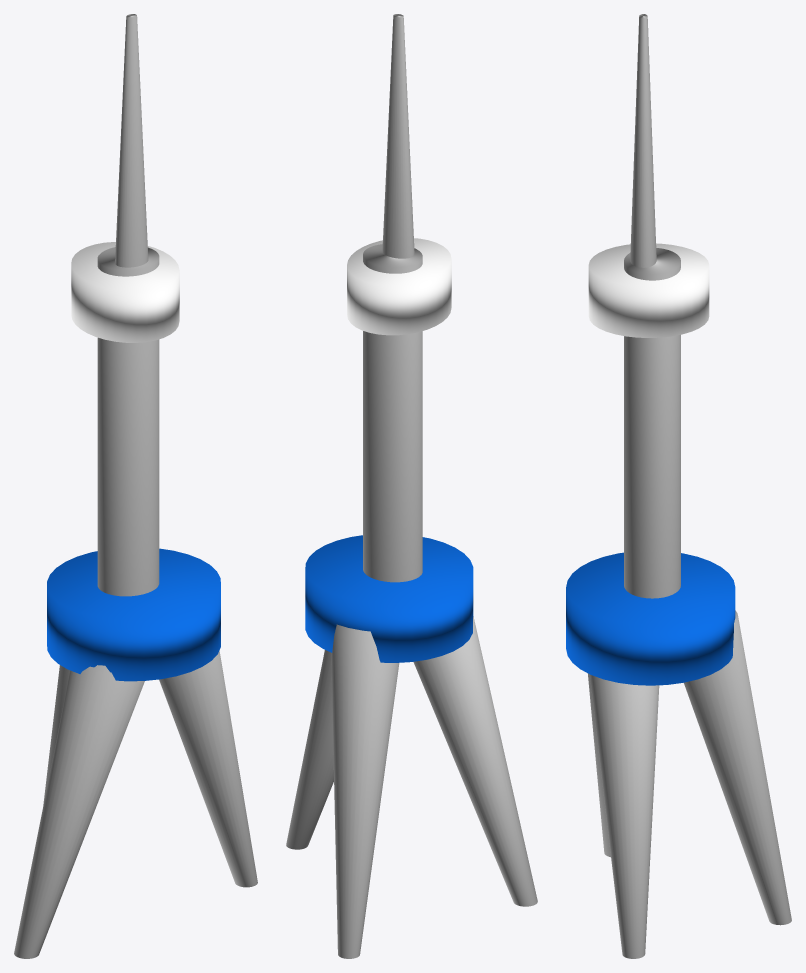
The picture shows the model from 3 angles, left to right: view 1: azimuth 30°, elevation 25°; view 2: azimuth 150°, elevation 25°; view 3: azimuth 270°, elevation 25°; orthographic projection. The views are drawn at different scales.
Parts seen in each view (by area): view 1: Cylinder.003, Cylinder.004, Cylinder, Cylinder.001, Cylinder.005, Cylinder.006, Cylinder.002; view 2: Cylinder.004, Cylinder.003, Cylinder.002, Cylinder, Cylinder.005, Cylinder.006, Cylinder.001; view 3: Cylinder.003, Cylinder.004, Cylinder.001, Cylinder.002, Cylinder.005, Cylinder.006, Cylinder.
Boxes of the visible parts, bbox=[...] form: Cylinder.003: bbox=[47, 548, 220, 681]; Cylinder.004: bbox=[97, 247, 159, 596]; Cylinder: bbox=[14, 665, 144, 958]; Cylinder.001: bbox=[159, 650, 257, 887]; Cylinder.005: bbox=[71, 242, 179, 342]; Cylinder.006: bbox=[115, 14, 148, 267]; Cylinder.002: bbox=[43, 665, 70, 804]; Cylinder.004: bbox=[363, 244, 422, 582]; Cylinder.003: bbox=[305, 535, 473, 662]; Cylinder.002: bbox=[331, 624, 399, 958]; Cylinder: bbox=[413, 616, 537, 906]; Cylinder.005: bbox=[347, 238, 451, 335]; Cylinder.006: bbox=[382, 14, 414, 258]; Cylinder.001: bbox=[286, 650, 333, 849]; Cylinder.003: bbox=[566, 552, 735, 685]; Cylinder.004: bbox=[624, 248, 680, 598]; Cylinder.001: bbox=[589, 674, 659, 958]; Cylinder.002: bbox=[684, 610, 791, 925]; Cylinder.005: bbox=[588, 243, 709, 337]; Cylinder.006: bbox=[630, 14, 656, 267]; Cylinder: bbox=[587, 673, 610, 857].
Size of the model in its own units: 736 by 2591 by 581.
